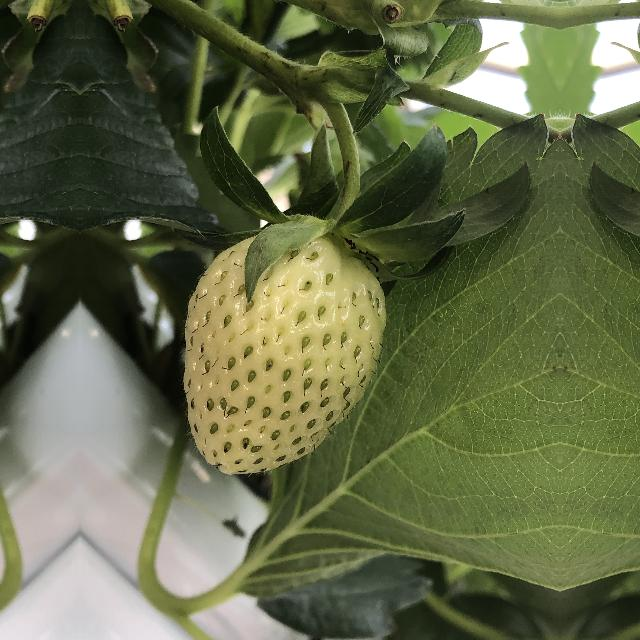Health_25: (184, 218, 396, 482)
